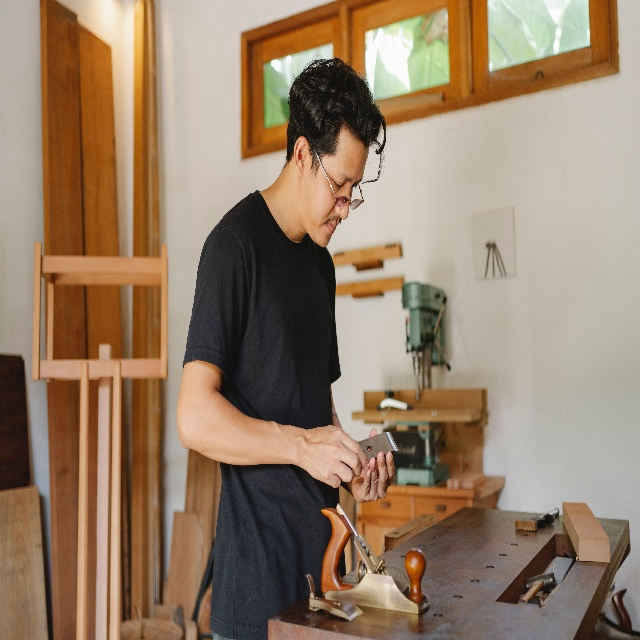Gafas: (313, 147, 365, 211)
Sin_guantes: (296, 424, 369, 489), (351, 427, 396, 504)
